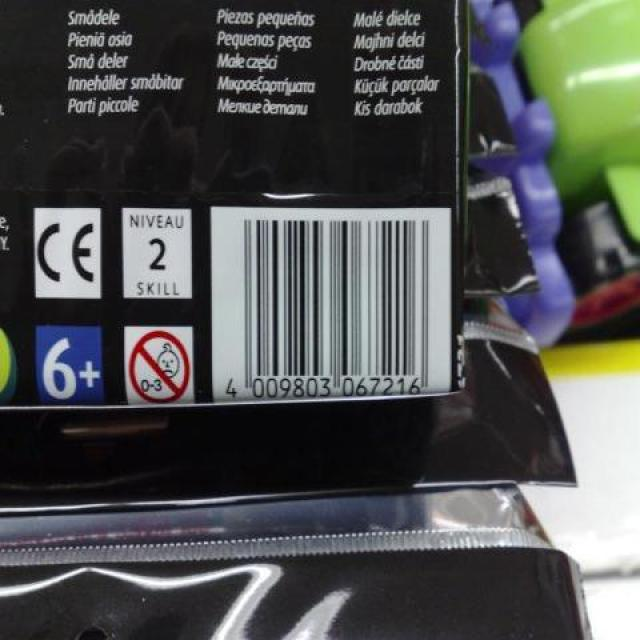Barcode: (212, 206, 449, 402)
